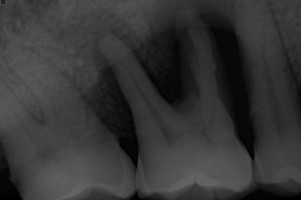Dental Caries: (51, 6, 140, 115), (145, 0, 236, 35)
Endo-Periodontal Lesion: (131, 20, 186, 109)
